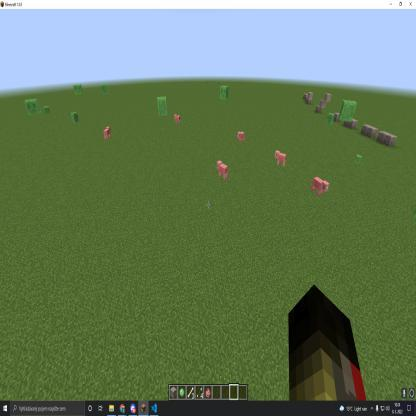pig: (311, 172, 331, 204), (214, 156, 232, 186), (272, 145, 288, 170), (234, 126, 248, 146), (102, 123, 115, 143), (172, 112, 184, 130)
